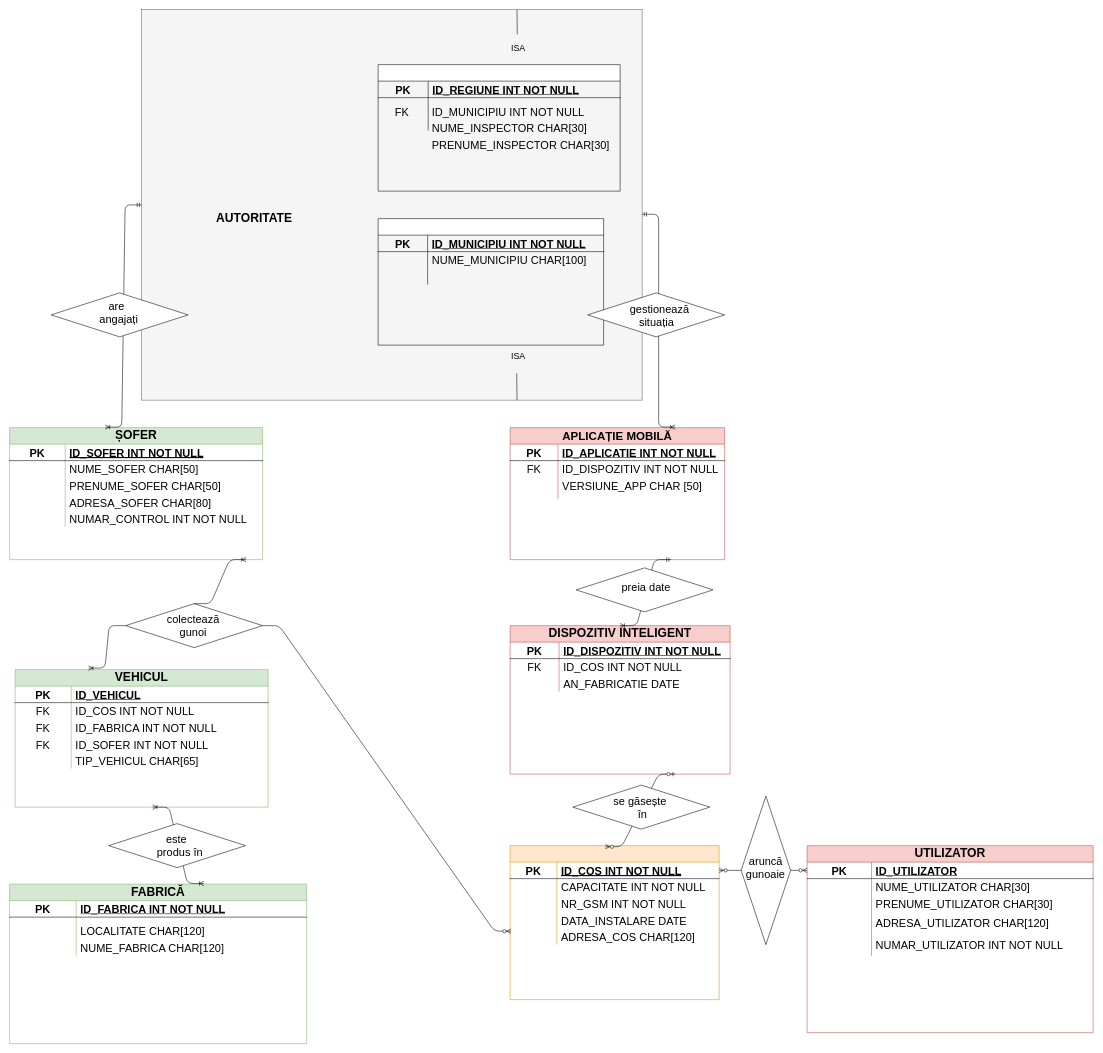
Image size: 1103x1053. Some labels were removed from this diagram. Each missing label, with the box of its shape:
Autoritatea Municipală: (378, 218, 604, 345)
COȘ DE GUNOI: (510, 845, 719, 1000)
Inspectori Generali: (378, 64, 620, 191)
